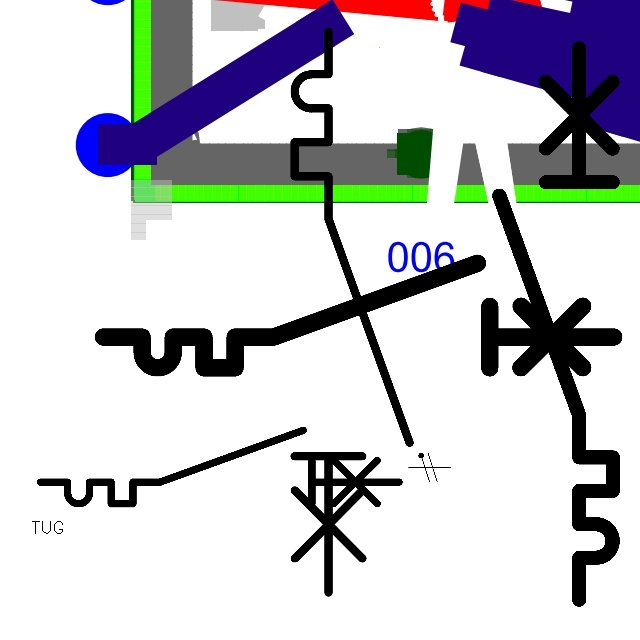interruptor_termomagnetico: (280, 17, 424, 607), (485, 34, 627, 614), (90, 250, 627, 381), (31, 421, 408, 513)
